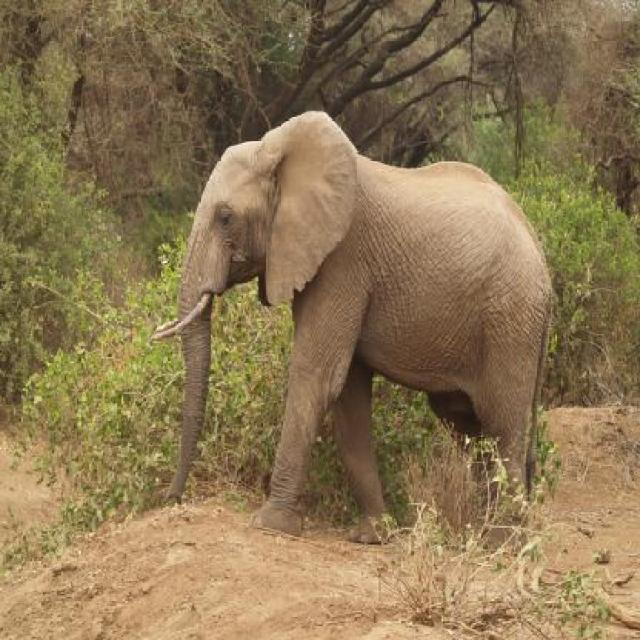Elephant: (150, 109, 564, 548)
